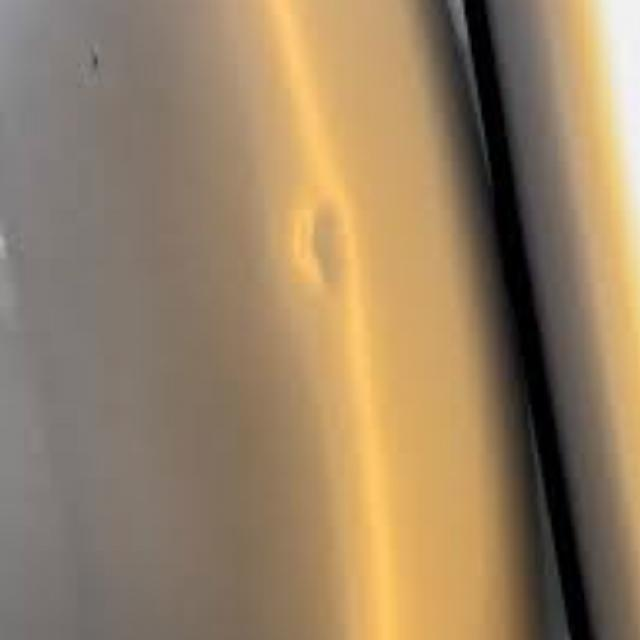dents: (222, 168, 407, 321)
